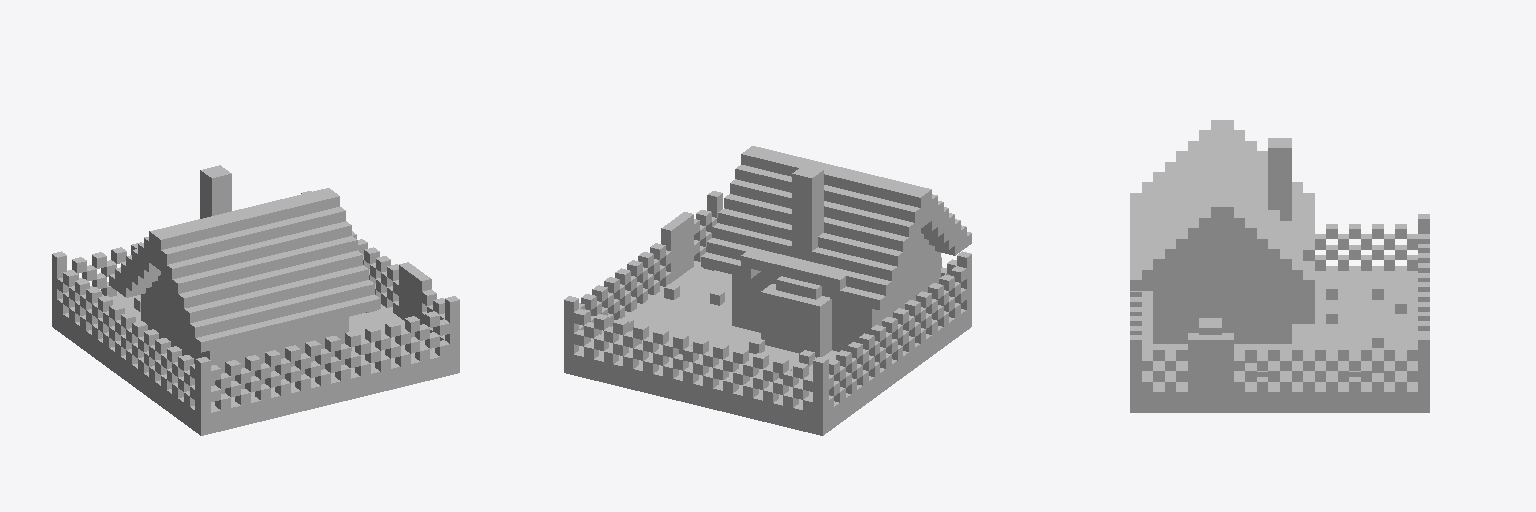
File: house6.obj
The picture shows the model from 3 angles: view 1: azimuth 30°, elevation 25°; view 2: azimuth 150°, elevation 25°; view 3: azimuth 270°, elevation 25°; orthographic projection.
Parts seen in each view (by area): view 1: object 1; view 2: object 1; view 3: object 1.
Part boxes in pixels (bbox=[...]): object 1: bbox=[52, 165, 459, 435]; object 1: bbox=[564, 146, 971, 435]; object 1: bbox=[1130, 120, 1429, 412].
Size of the model in its own units: 2.6 by 1.8 by 2.6.